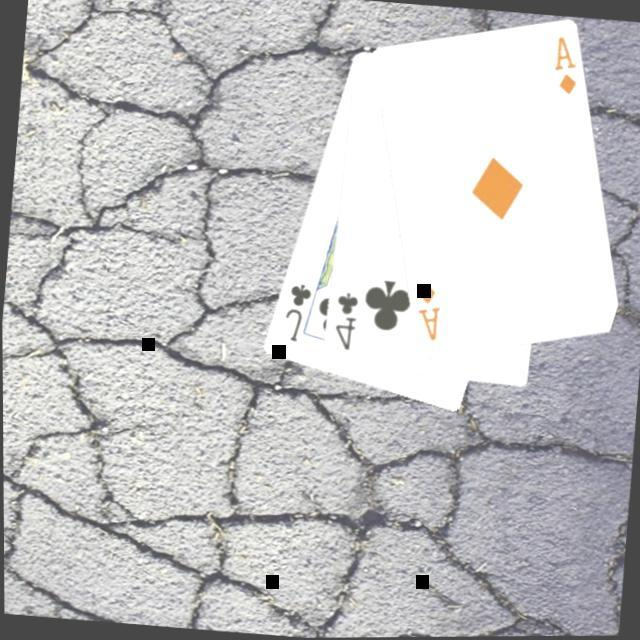4C: (326, 288, 359, 354)
AD: (408, 278, 443, 344), (546, 32, 580, 98)
JC: (276, 279, 312, 345)
